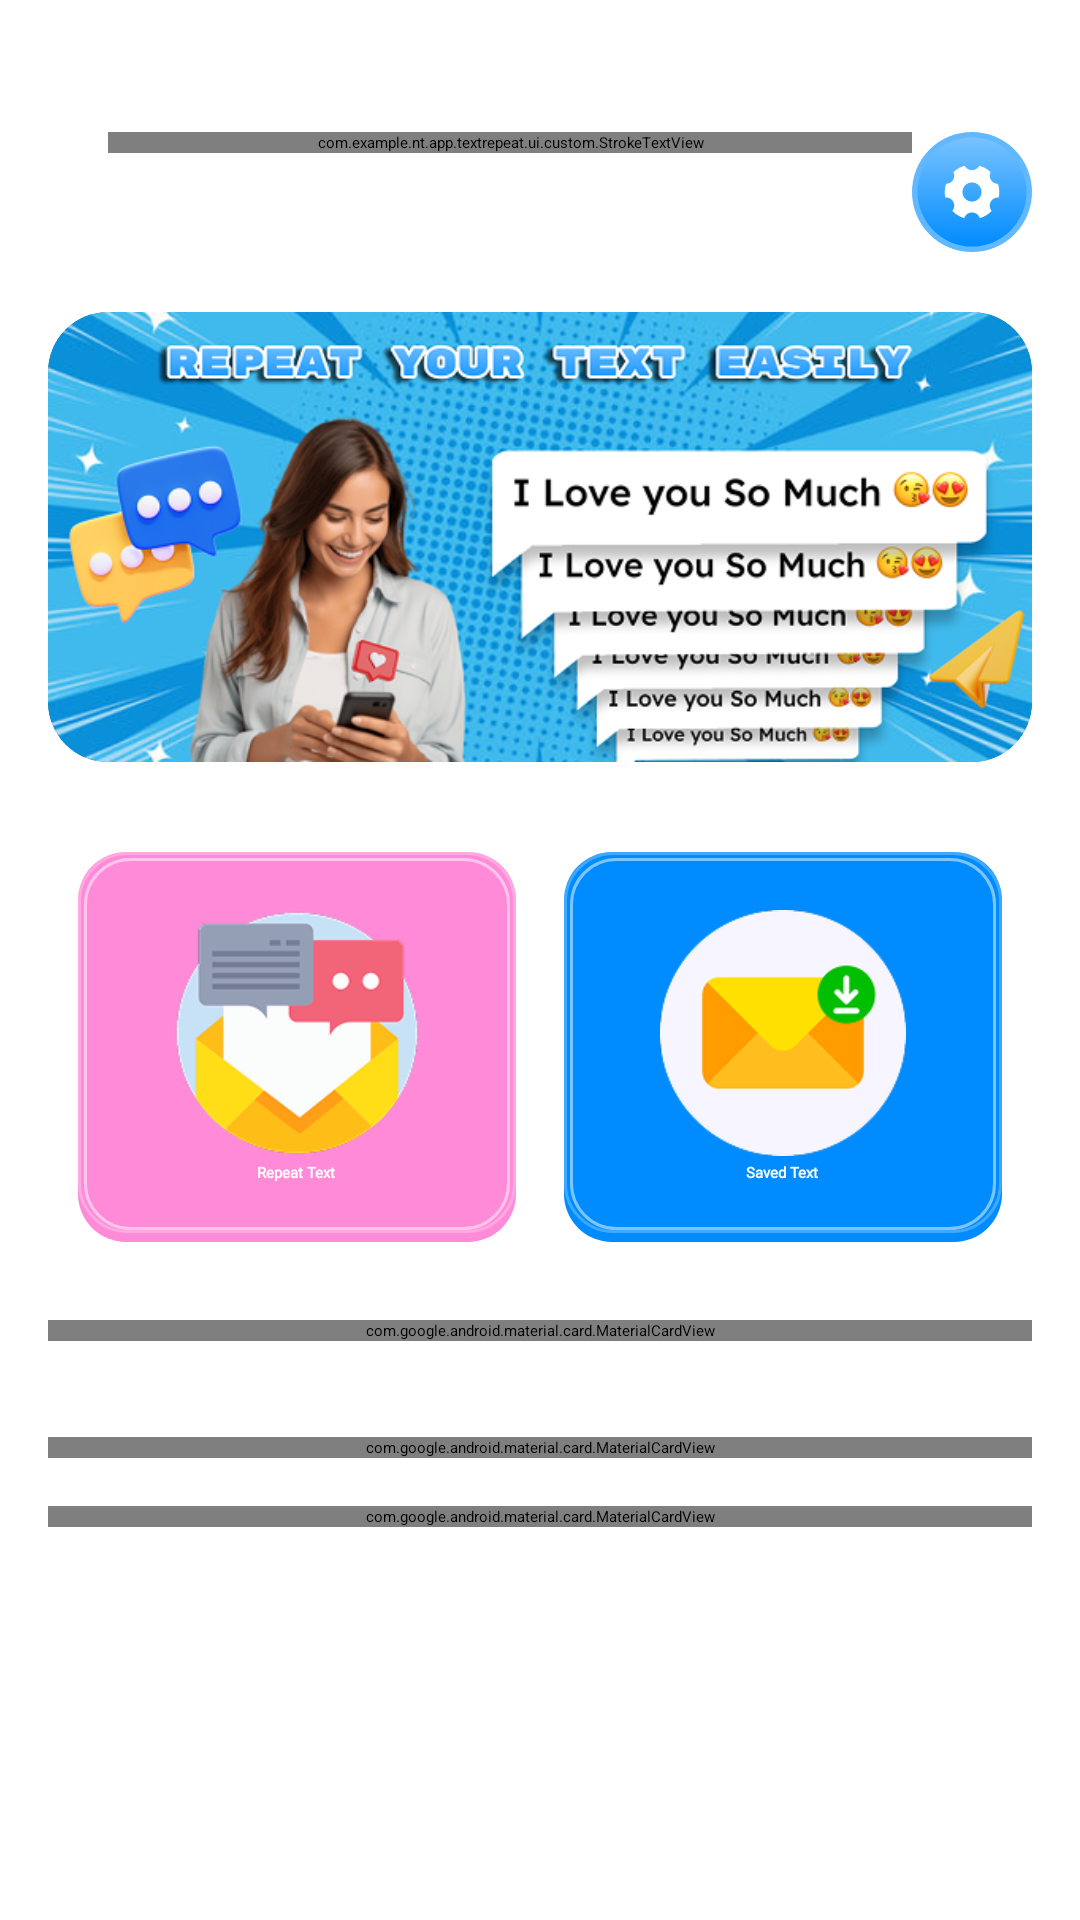

Screen size 1080*1920. Icon name, then its box in pixels as (x1, y1, x2, y2):
settings: (912, 132, 1032, 252)
